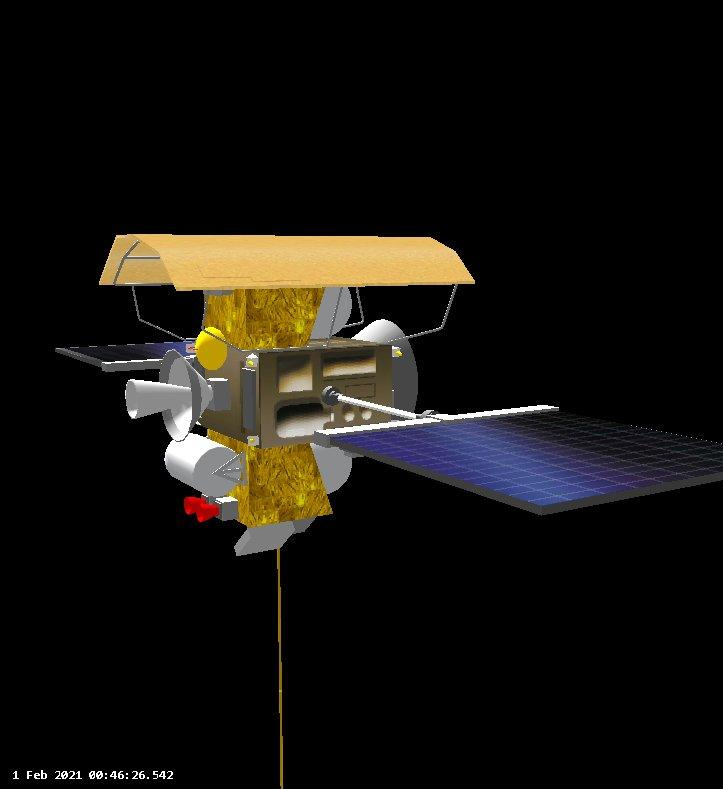antenna: (270, 534, 292, 789)
thruster: (357, 315, 424, 430), (122, 374, 193, 425)
